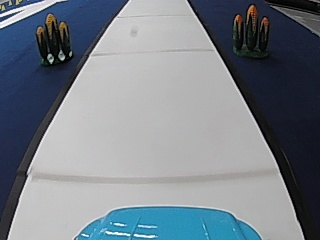corn: (230, 2, 271, 59), (35, 11, 74, 64)
